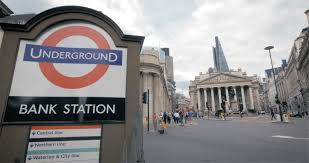London Underground: (25, 24, 124, 87)
